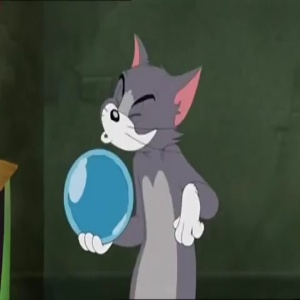Tom: (95, 28, 203, 146)
